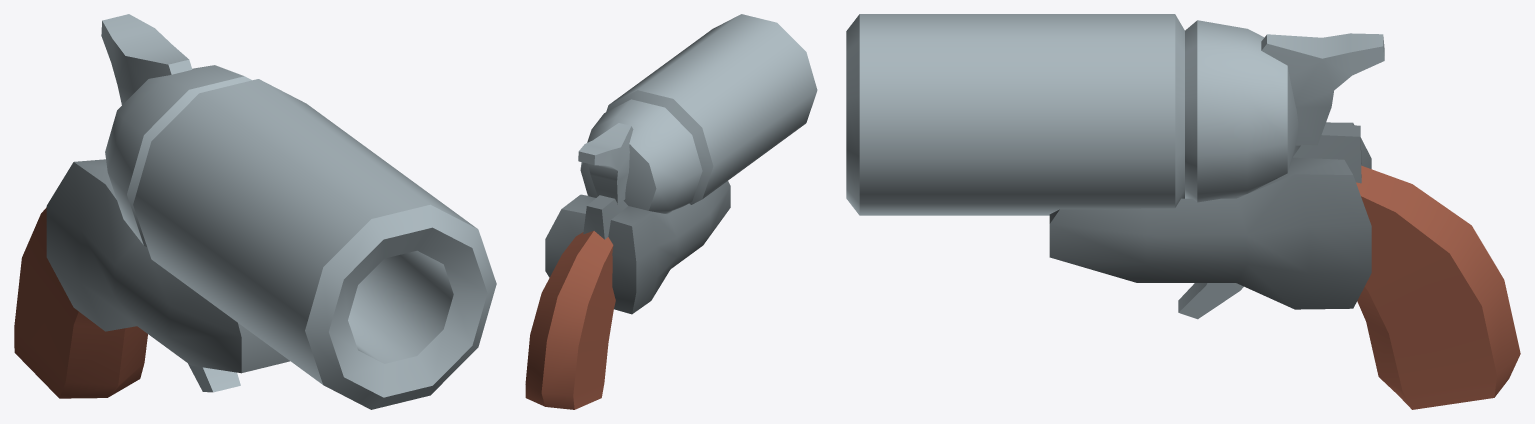
File: gun_single.fbx
The picture shows the model from 3 angles, left to right: view 1: azimuth 30°, elevation 25°; view 2: azimuth 150°, elevation 25°; view 3: azimuth 270°, elevation 25°; orthographic projection. The views are drawn at different scales.
Parts seen in each view (by area): view 1: gun_single; view 2: gun_single; view 3: gun_single.
Part boxes in pixels (x1,y1,x2,y2): gun_single: (14, 14, 496, 409); gun_single: (525, 14, 817, 409); gun_single: (846, 14, 1520, 409).
Size of the model in its own units: 0.1971 by 0.3936 by 0.654.
